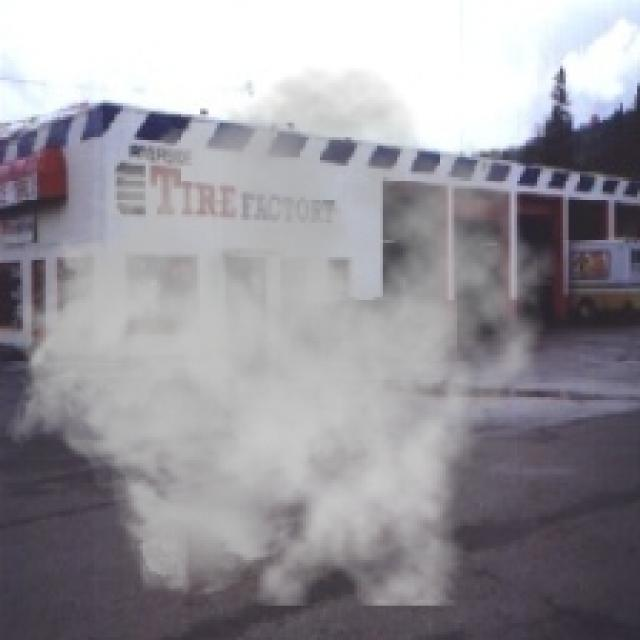smoke: (3, 65, 560, 606)
